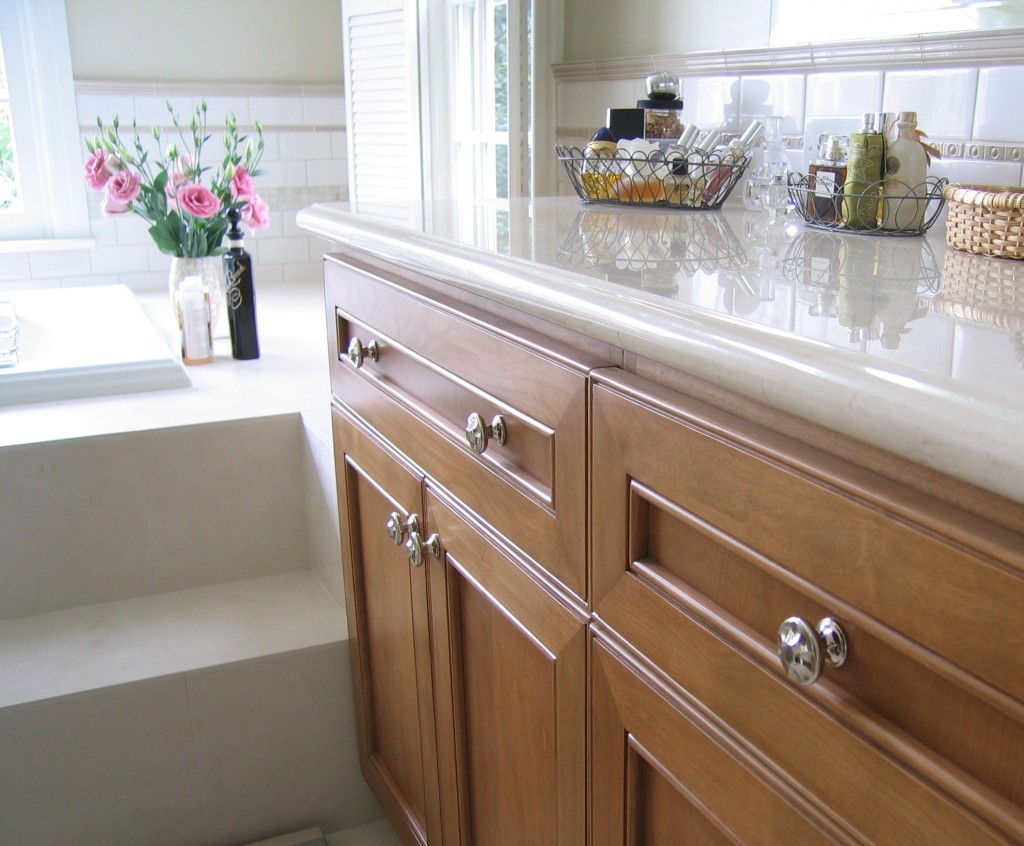cabinet door: (615, 474, 1024, 751), (326, 304, 589, 482), (422, 519, 566, 831), (332, 444, 426, 787)
handle: (769, 609, 850, 687), (460, 403, 507, 464), (396, 530, 443, 570), (342, 338, 382, 382), (386, 505, 418, 542)
